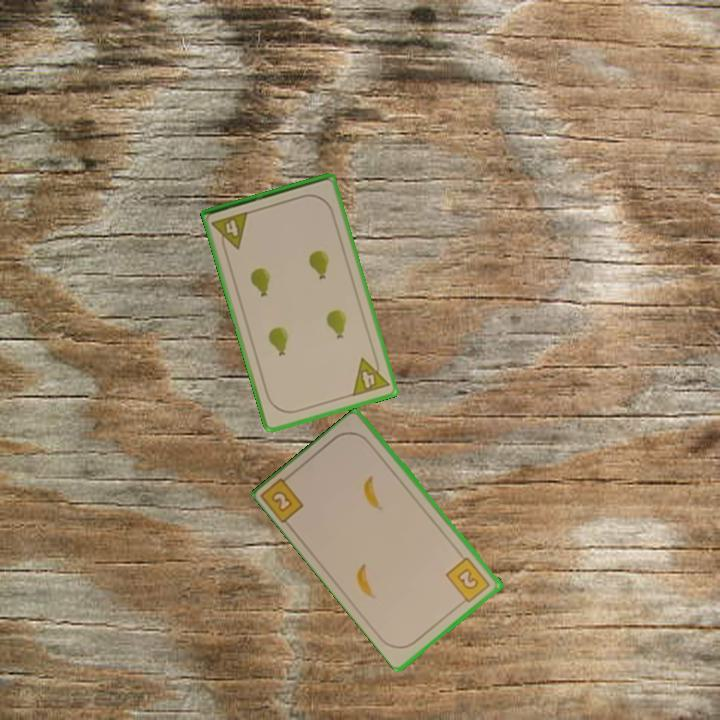2b: (259, 469, 307, 527), (443, 553, 493, 608)
4p: (348, 351, 392, 399), (208, 208, 252, 255)
